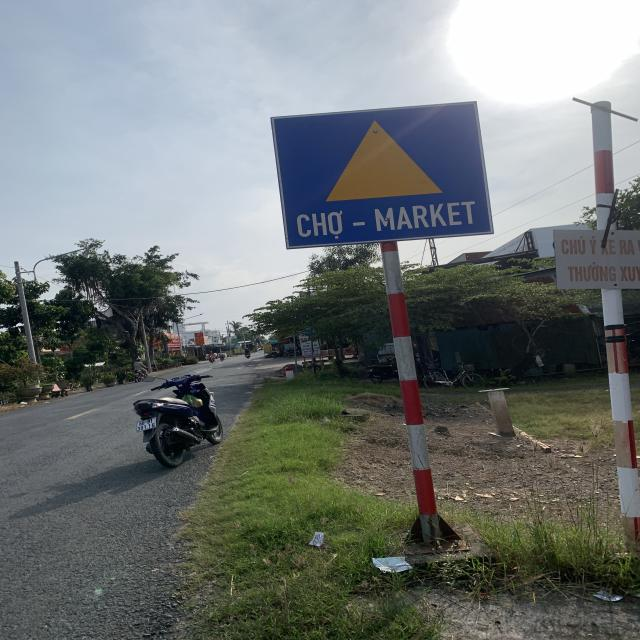Cho_Quay_Xe: (270, 101, 496, 249)
